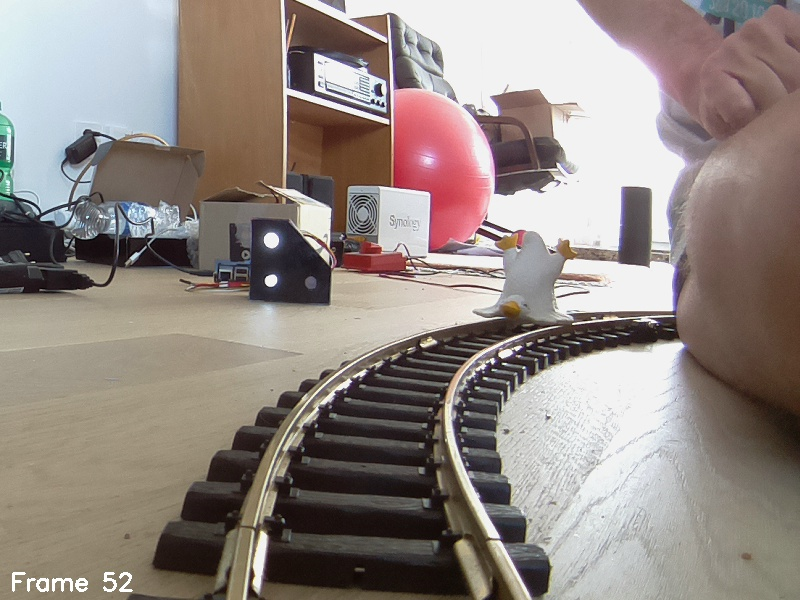Ente: (472, 228, 578, 331)
Fahrt: (250, 218, 333, 306)
